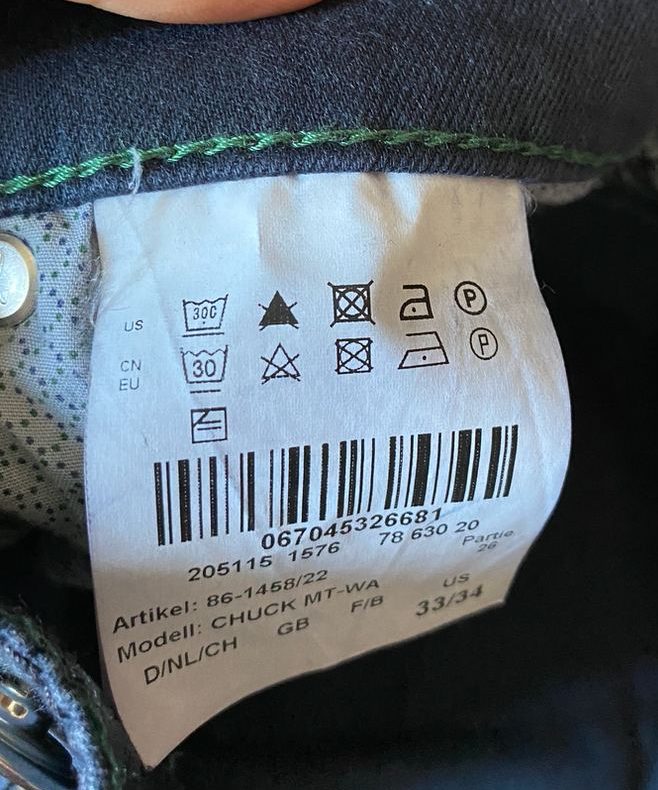do_not_bleach: (251, 340, 311, 386), (253, 288, 307, 333)
do_not_tumble_drying: (322, 276, 380, 326), (328, 335, 378, 379)
dry_clean_tetrachloroethylene_pce_only: (451, 274, 492, 320), (466, 324, 504, 365)
dry_flat_in_the_shade: (185, 401, 238, 448)
ironing_at_low_temp: (393, 326, 451, 369), (395, 280, 436, 324)
wash_at_or_below_30_mild_fine_wash: (176, 341, 234, 396), (174, 292, 236, 341)
